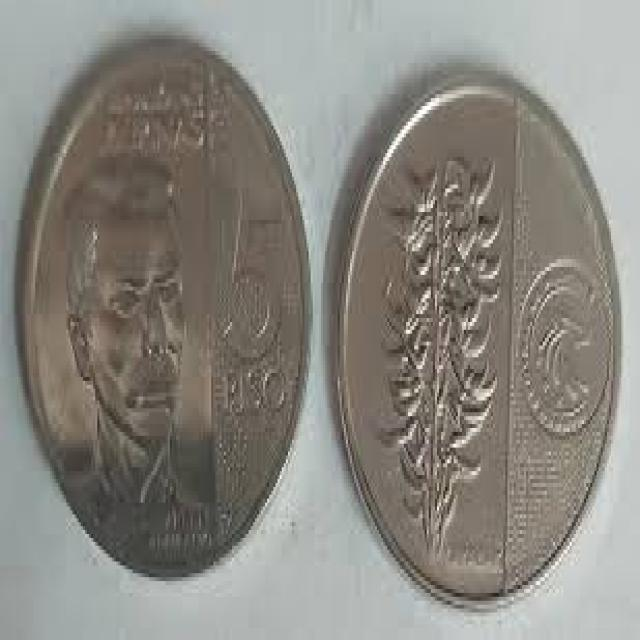5 peso: (330, 52, 628, 619), (16, 28, 313, 581)
